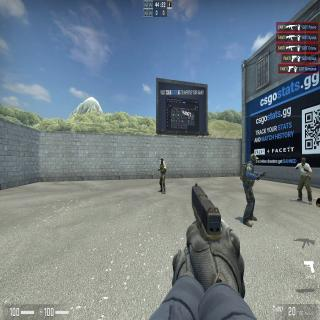CT-Body: (242, 153, 257, 225), (159, 156, 166, 192)
CT-Head: (250, 153, 256, 165), (160, 157, 164, 163)
T-Body: (300, 158, 309, 201)
T-Head: (301, 157, 306, 165)
